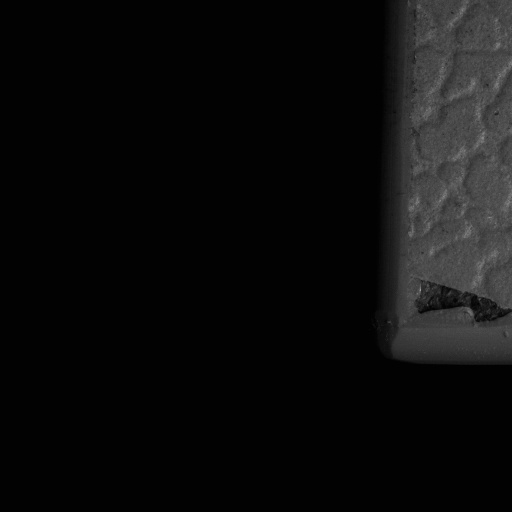bengque: (412, 275, 509, 329)
